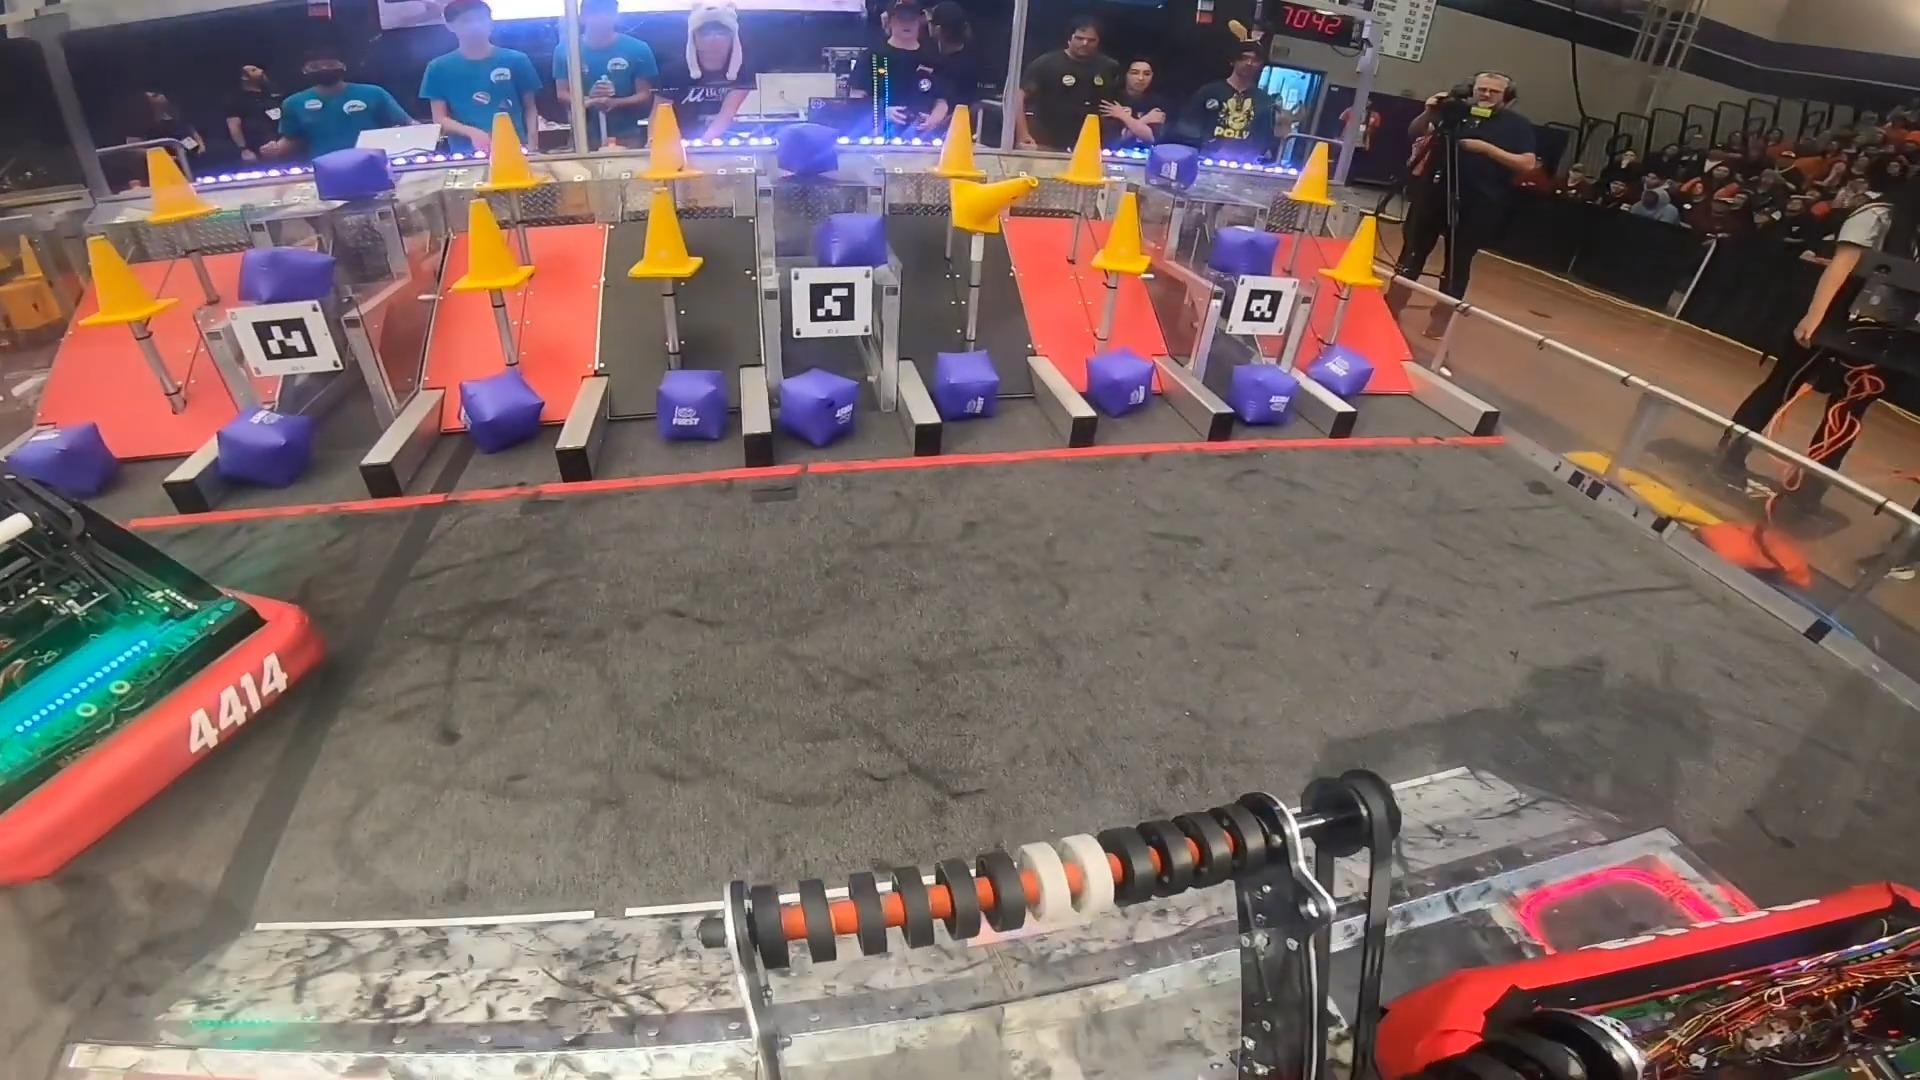robot: (0, 465, 324, 887), (1379, 877, 1920, 1080)
